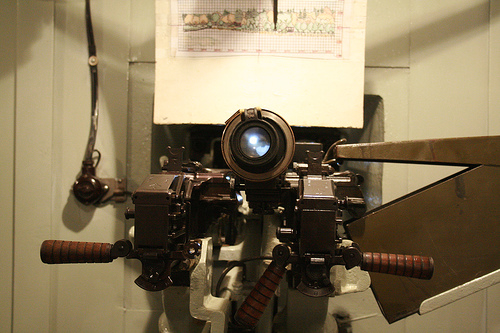rifle: (54, 73, 418, 302)
